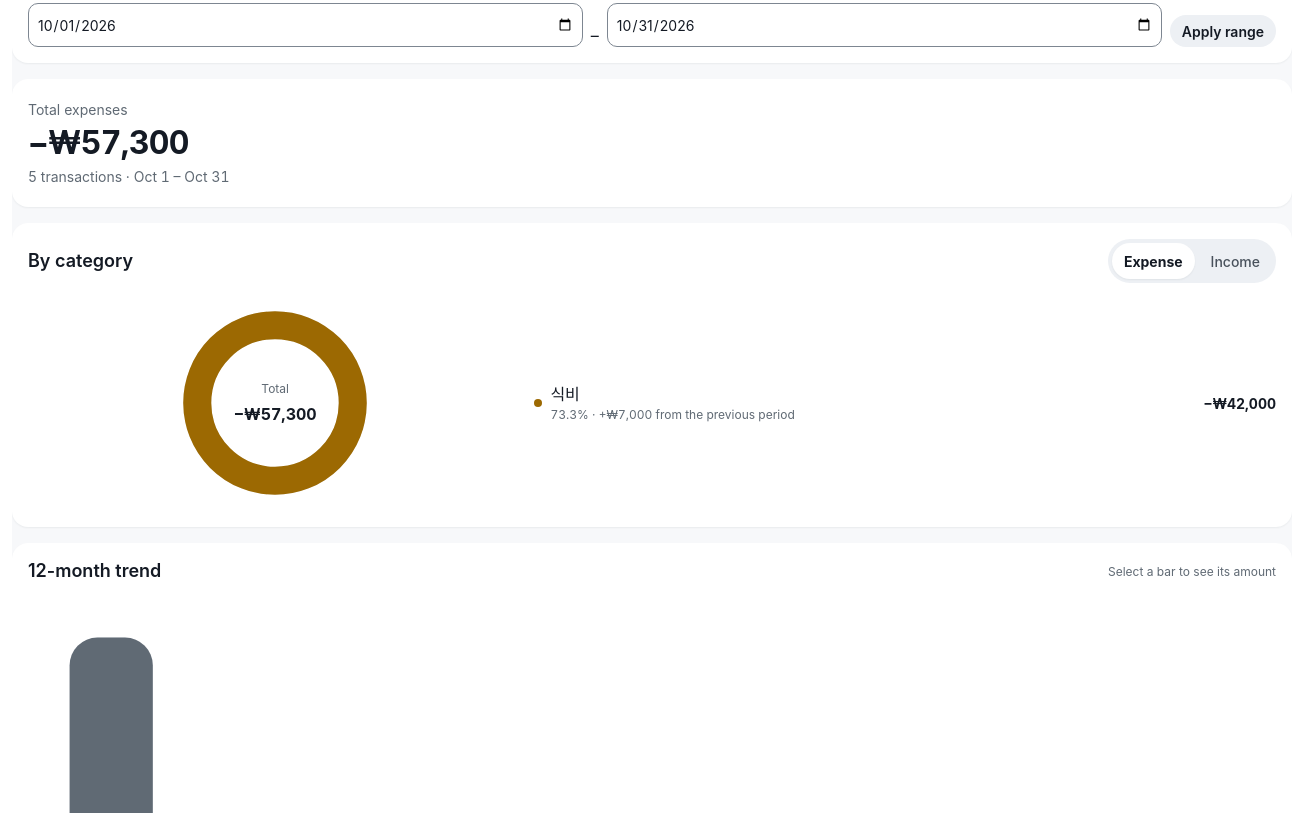
Scenario: StatsView › opens a category, then searches its child for the selected dates
The width and height of the screenshot is (1292, 813).
What coordinates should you click on to do the following:
click the button "식비 73.3% · +₩7,000 from the previous period −₩42,000"
I would click on:
 (692, 415)
Its box is [534,374,1276,432].
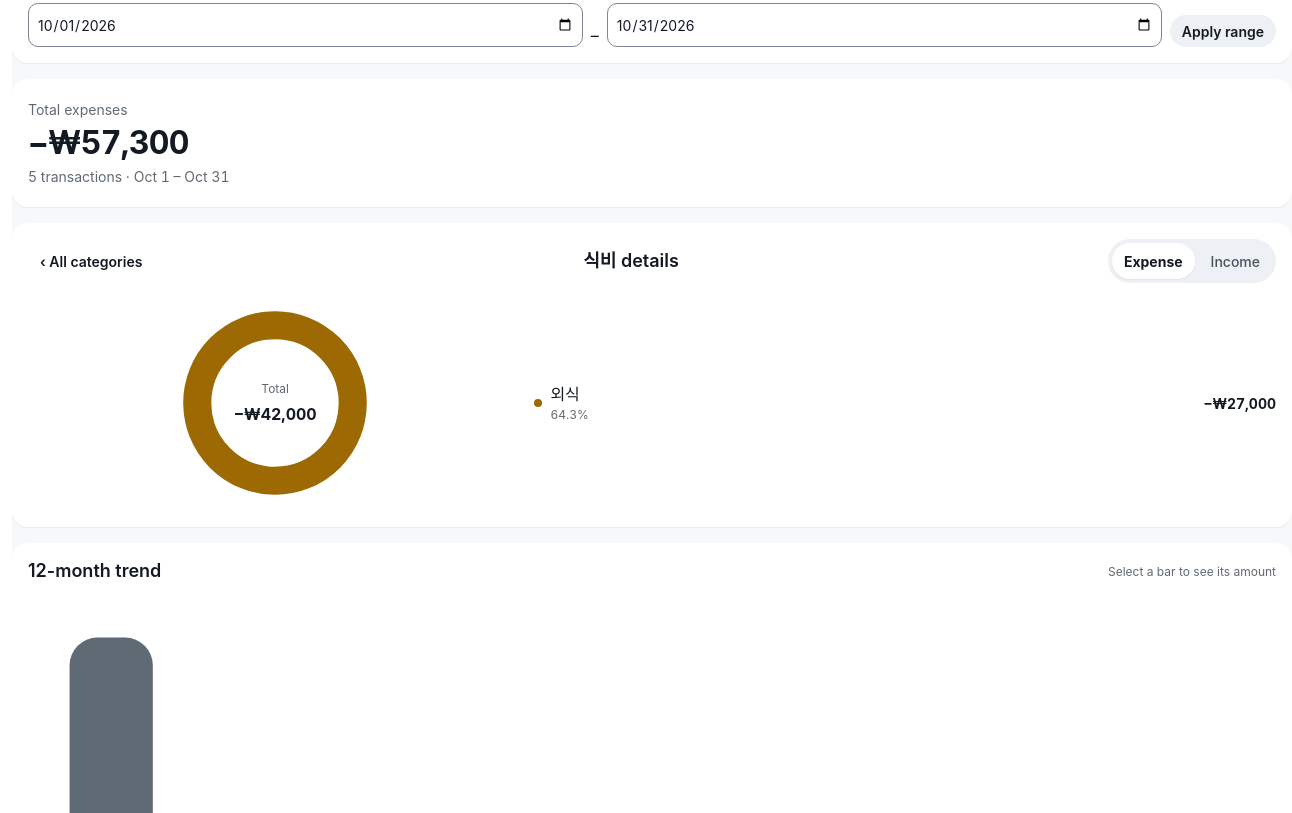
What coordinates should you click on to do the following:
click the button "외식 64.3% −₩27,000"
I would click on:
 (1240, 403)
Its box is [534,374,1276,432].
(page scrolled)
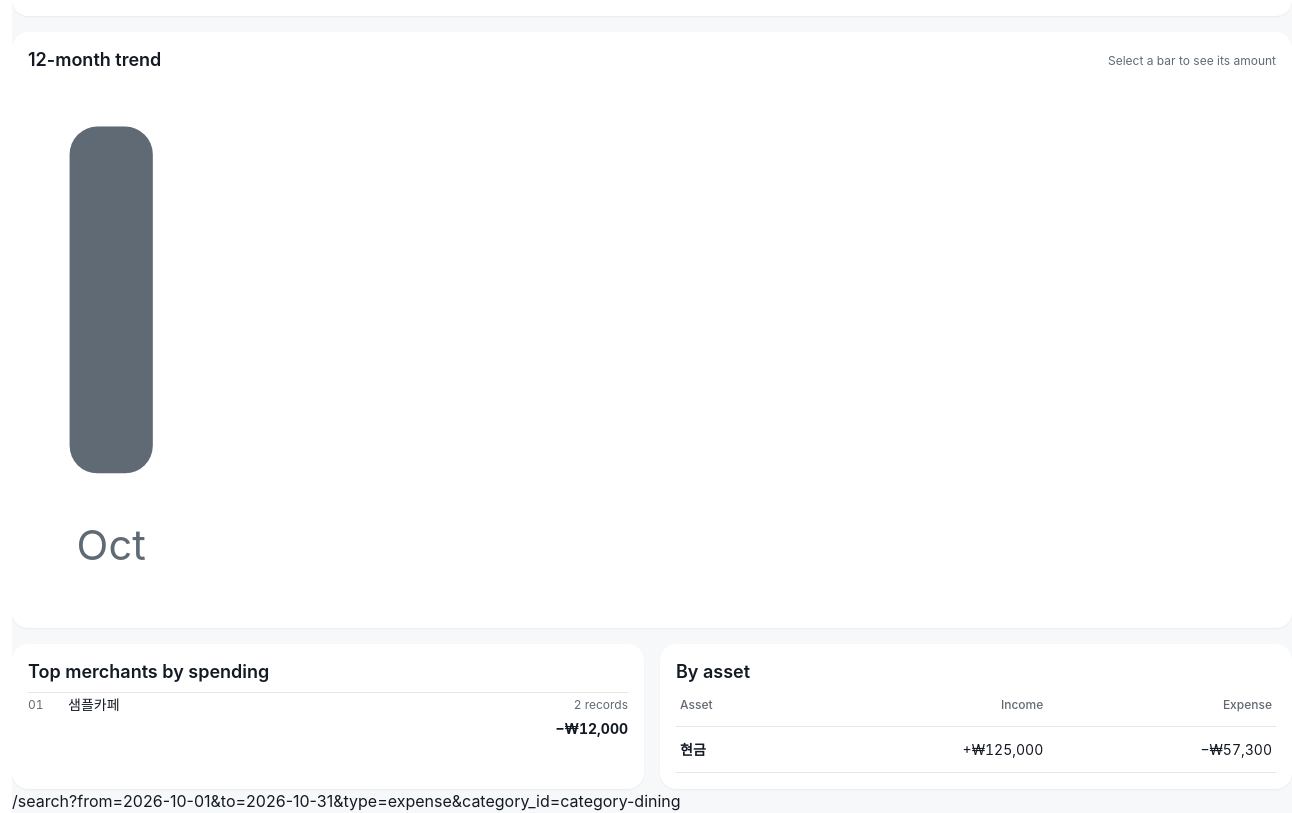
Expected: the text with test id "route" shows "from=2026-10-01", [12,791,681,811]
Result: the text with test id "route" shows "/search?" at [12,791,681,811]
Result: the text with test id "route" shows "category_id=category-dining" at [12,791,681,811]
